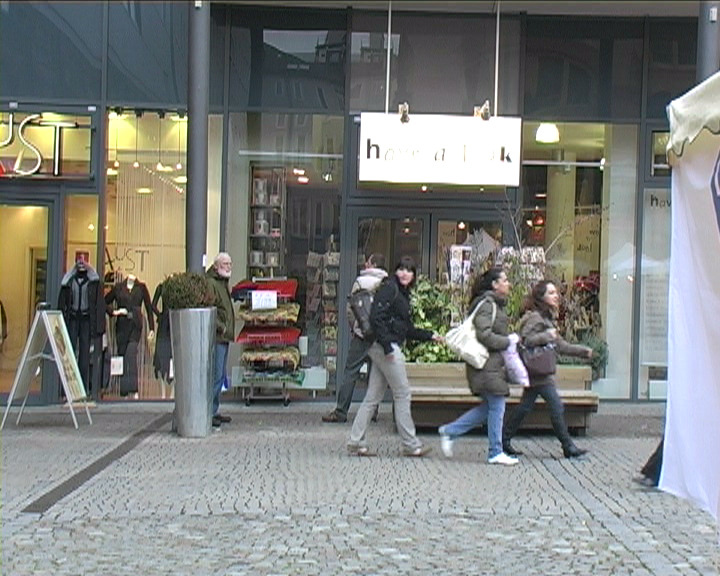deflection: (372, 260, 424, 333)
